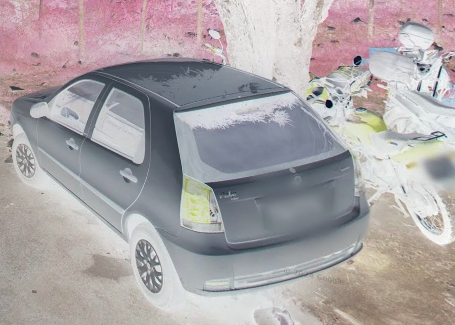car: (12, 59, 371, 306)
